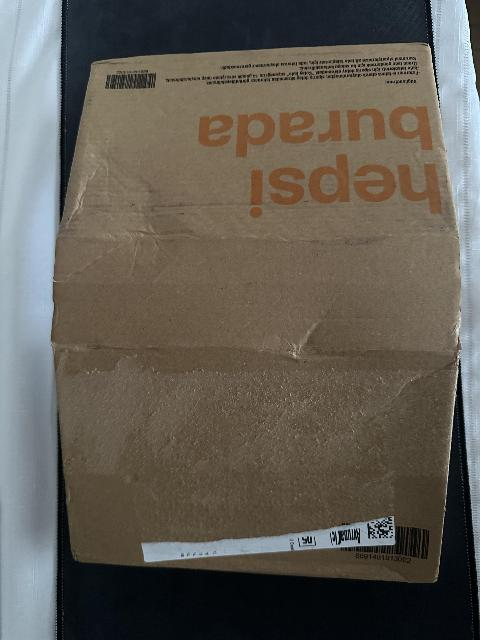Kagit: (43, 49, 465, 592), (260, 557, 272, 571), (227, 563, 242, 570), (342, 553, 351, 563), (246, 564, 255, 570), (192, 560, 199, 567), (363, 570, 368, 576), (280, 565, 284, 572), (329, 571, 336, 575), (247, 147, 252, 152), (252, 198, 256, 204), (288, 175, 293, 179), (249, 182, 253, 187), (182, 562, 186, 566), (334, 552, 338, 556), (311, 56, 315, 58), (314, 132, 316, 136), (247, 207, 249, 211), (336, 573, 339, 575), (255, 148, 258, 150), (317, 552, 321, 553), (374, 176, 378, 177), (323, 552, 326, 553), (321, 552, 323, 553)
